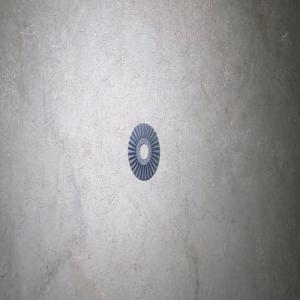Washer: (127, 122, 159, 180)
